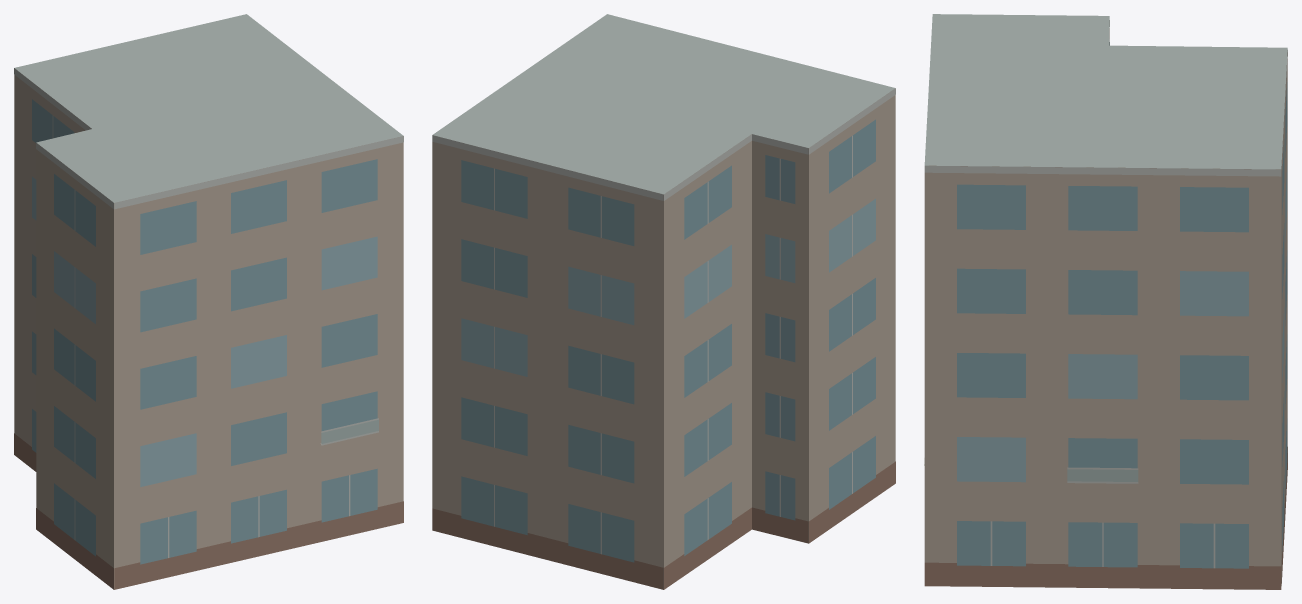
The model's file is survey-upis-33046069.glb.
The picture shows the model from 3 angles, left to right: view 1: azimuth 30°, elevation 25°; view 2: azimuth 150°, elevation 25°; view 3: azimuth 270°, elevation 25°; orthographic projection. The views are drawn at different scales.
Visible parts, largest first — view 1: survey-upis-33046069.tmp; view 2: survey-upis-33046069.tmp; view 3: survey-upis-33046069.tmp.
Boxes of the visible parts, x1,y1,x2,y2 form: survey-upis-33046069.tmp: (14, 14, 403, 589); survey-upis-33046069.tmp: (432, 14, 895, 589); survey-upis-33046069.tmp: (924, 14, 1287, 589).
Size of the model in its own units: 11.51 by 14.5 by 11.37.
